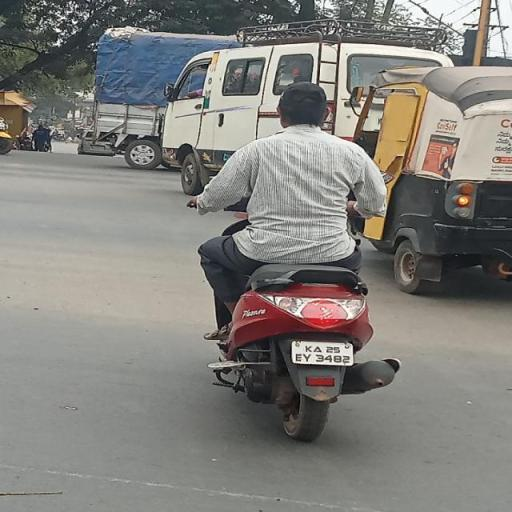bike: (178, 75, 410, 445)
numberplate: (294, 341, 358, 368)
withouthelmet: (278, 83, 326, 126)
